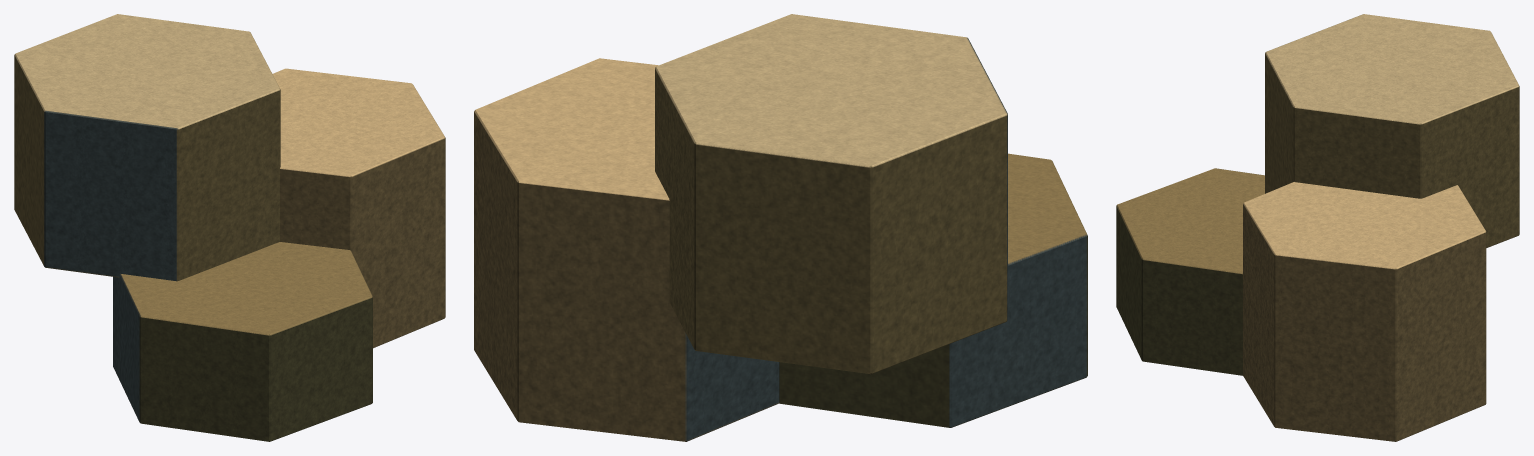
Rendered from OrirockConcentration_Finished.fbx.
The picture shows the model from 3 angles, left to right: view 1: azimuth 30°, elevation 25°; view 2: azimuth 150°, elevation 25°; view 3: azimuth 270°, elevation 25°; orthographic projection. The views are drawn at different scales.
Visible parts, largest first — view 1: 提纯源岩_左后_宽顶短壁, 提纯源岩_前方_宽扁断块, 提纯源岩_右后_斜切与下阶; view 2: 提纯源岩_左后_宽顶短壁, 提纯源岩_右后_斜切与下阶, 提纯源岩_前方_宽扁断块; view 3: 提纯源岩_右后_斜切与下阶, 提纯源岩_左后_宽顶短壁, 提纯源岩_前方_宽扁断块.
Part boxes in pixels (bbox=[...]): 提纯源岩_左后_宽顶短壁: bbox=[14, 14, 280, 281]; 提纯源岩_前方_宽扁断块: bbox=[113, 242, 372, 441]; 提纯源岩_右后_斜切与下阶: bbox=[272, 68, 445, 348]; 提纯源岩_左后_宽顶短壁: bbox=[655, 14, 1007, 374]; 提纯源岩_右后_斜切与下阶: bbox=[474, 58, 779, 441]; 提纯源岩_前方_宽扁断块: bbox=[779, 153, 1087, 427]; 提纯源岩_右后_斜切与下阶: bbox=[1243, 182, 1486, 441]; 提纯源岩_左后_宽顶短壁: bbox=[1265, 14, 1519, 247]; 提纯源岩_前方_宽扁断块: bbox=[1116, 168, 1264, 375].
Size of the model in its own units: 165 by 106 by 156.
